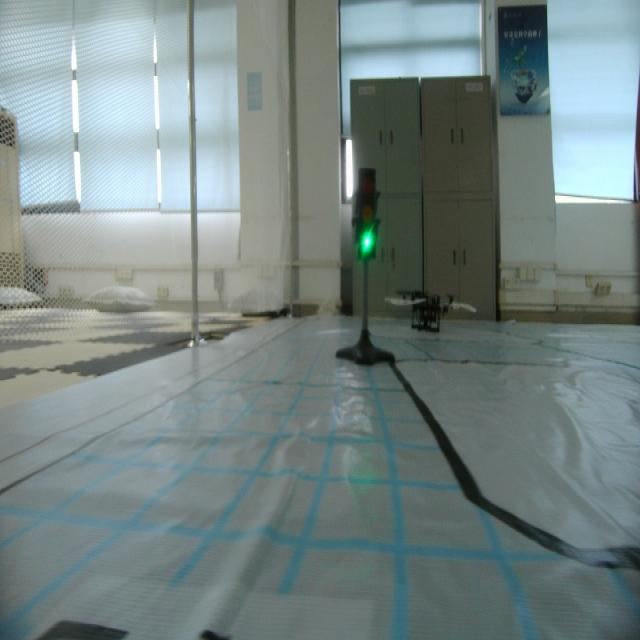green: (346, 162, 386, 270)
